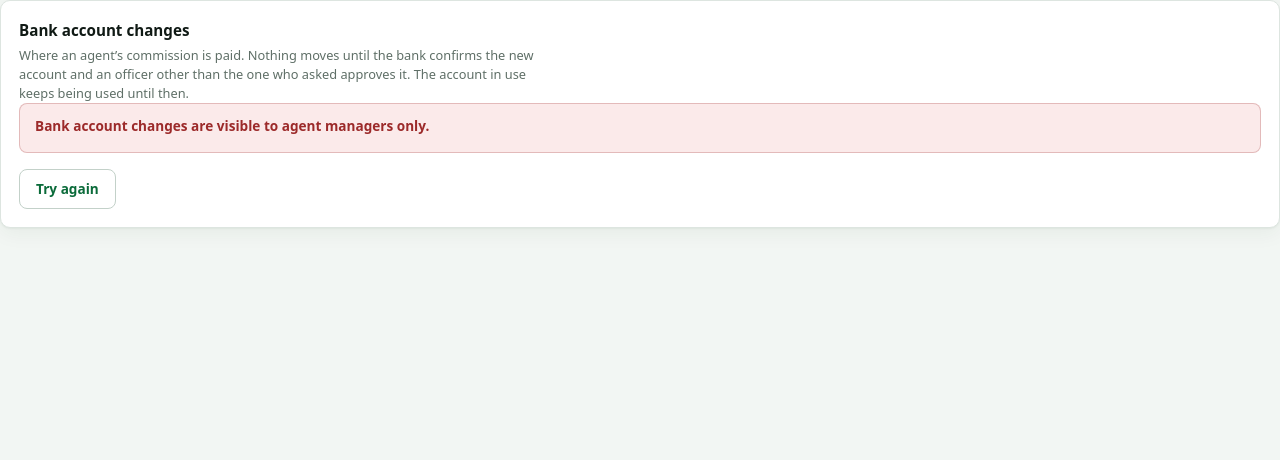
Test case: a queue that could not be read › offers the officer a way to ask again
Click the button "Try again".
click(67, 189)  # box [19, 169, 116, 209]
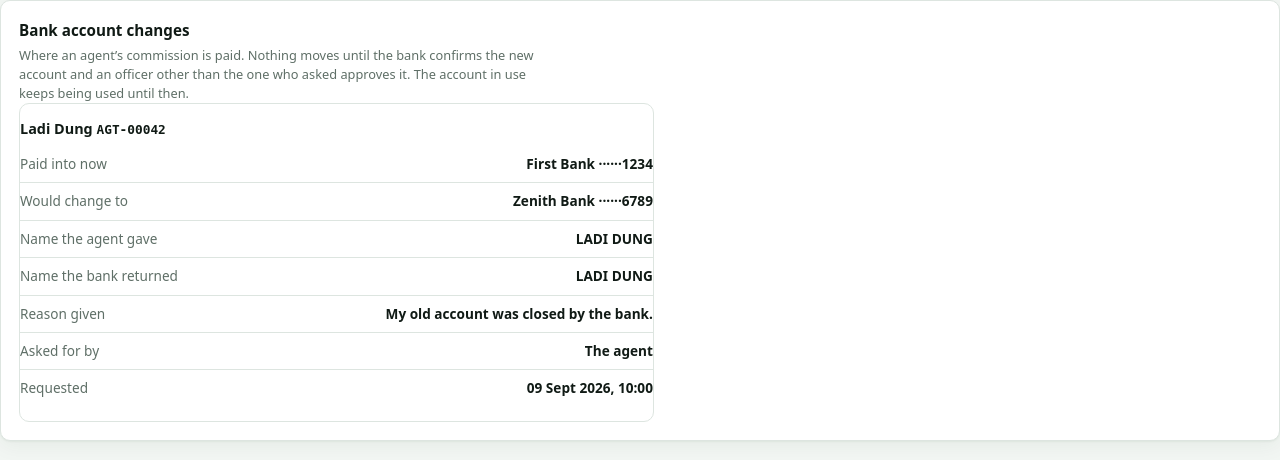
Check: the text "Ladi Dung AGT-00042" is shown, box [20, 119, 166, 138]
